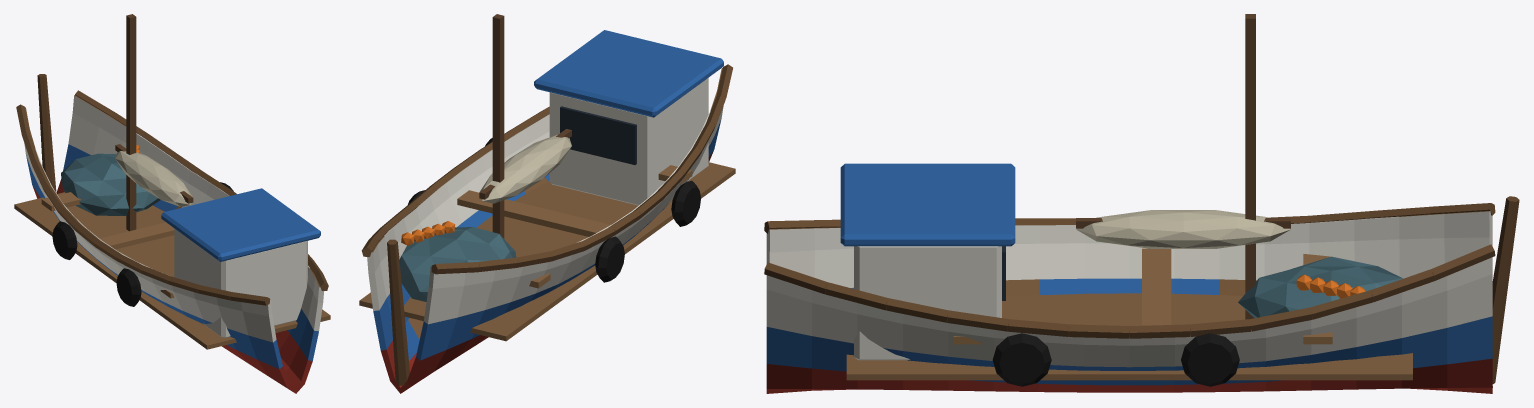
File: boat_1.glb
3 renders of one model, left to right at view 1: azimuth 30°, elevation 25°; view 2: azimuth 150°, elevation 25°; view 3: azimuth 270°, elevation 25°, orthographic. The views are drawn at different scales.
Visible parts, largest first — view 1: hull; view 2: hull; view 3: hull.
Boxes of the visible parts, left/top/right/bottom form: hull: left=14, top=14, right=330, bottom=393; hull: left=359, top=14, right=735, bottom=393; hull: left=764, top=14, right=1519, bottom=393.
Bounding box in the file's own units: 2.14 × 3.1 × 5.62.
